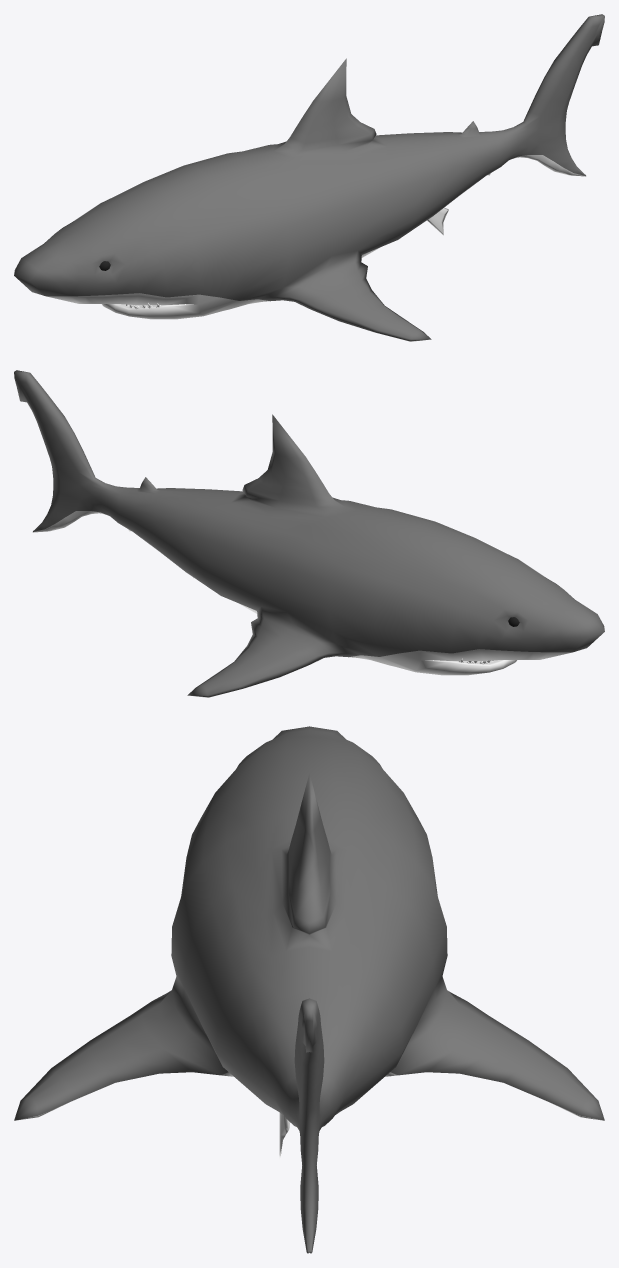
Rendered from Shark_001.glb.
The picture shows the model from 3 angles, top to bottom: view 1: azimuth 30°, elevation 25°; view 2: azimuth 150°, elevation 25°; view 3: azimuth 270°, elevation 25°; orthographic projection. The views are drawn at different scales.
Parts seen in each view (by area): view 1: Shark_001; view 2: Shark_001; view 3: Shark_001.
Boxes of the visible parts, <box> form: Shark_001: <box>14,14,604,341</box>; Shark_001: <box>14,370,604,697</box>; Shark_001: <box>14,726,604,1253</box>.
Bounding box in the file's own units: 4.67 × 1.62 × 2.47.
Materials: 1 (1 with a texture image).
